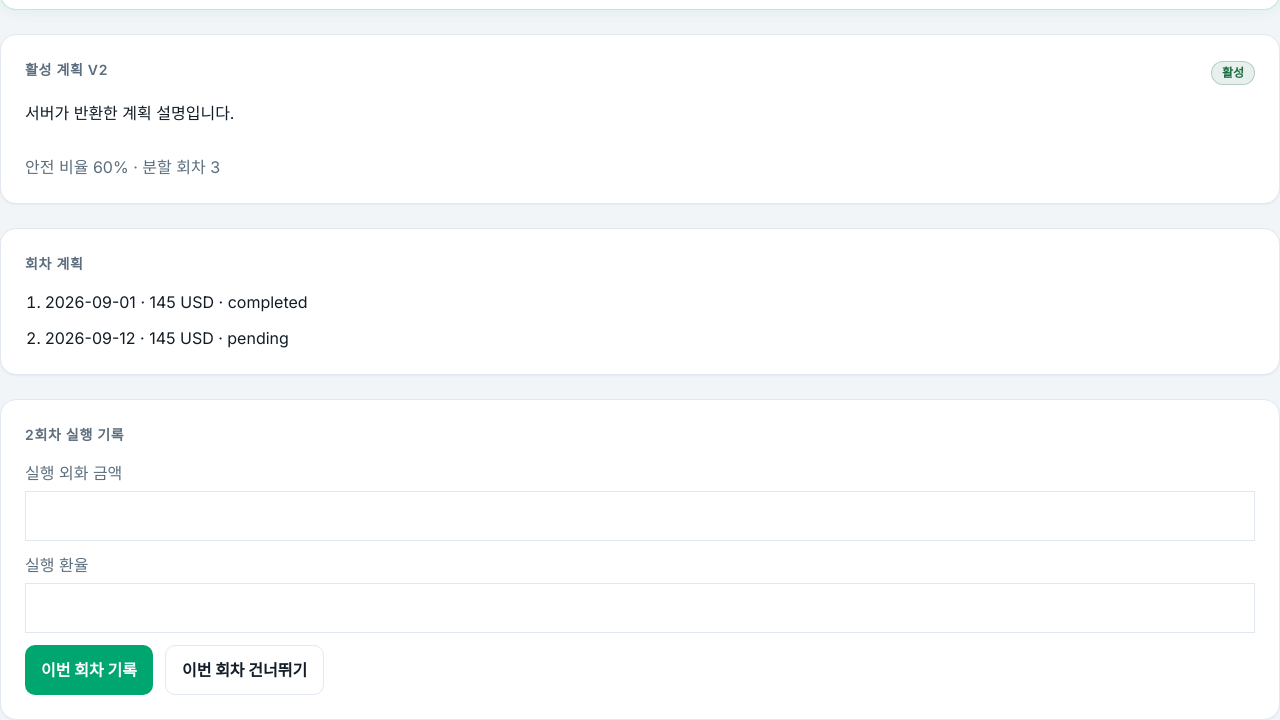
it: PlannerApiScreen › 건너뛰기 오류와 완료된 계획의 비활성 상태를 표시한다
(page scrolled)
Click the button "이번 회차 건너뛰기": point(245, 670) [165, 645, 324, 695]
(page scrolled)
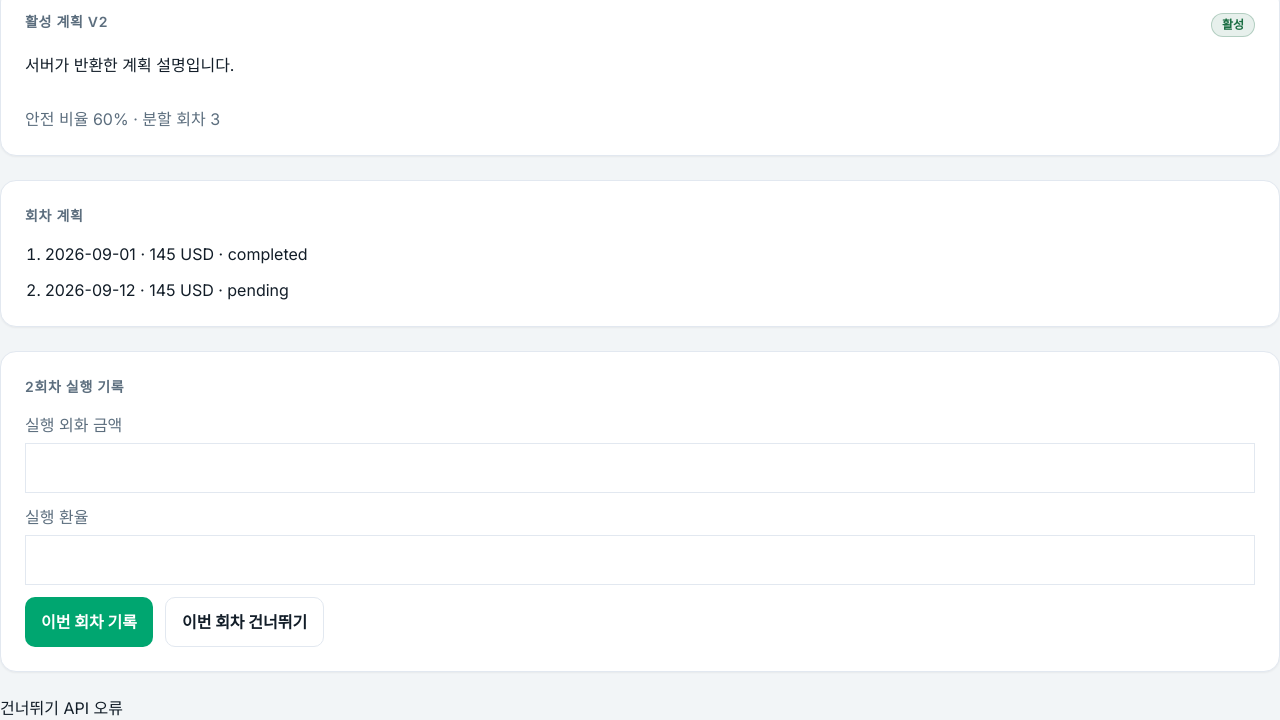
Now the message reads "건너뛰기 API 오류", box [0, 698, 123, 718]
